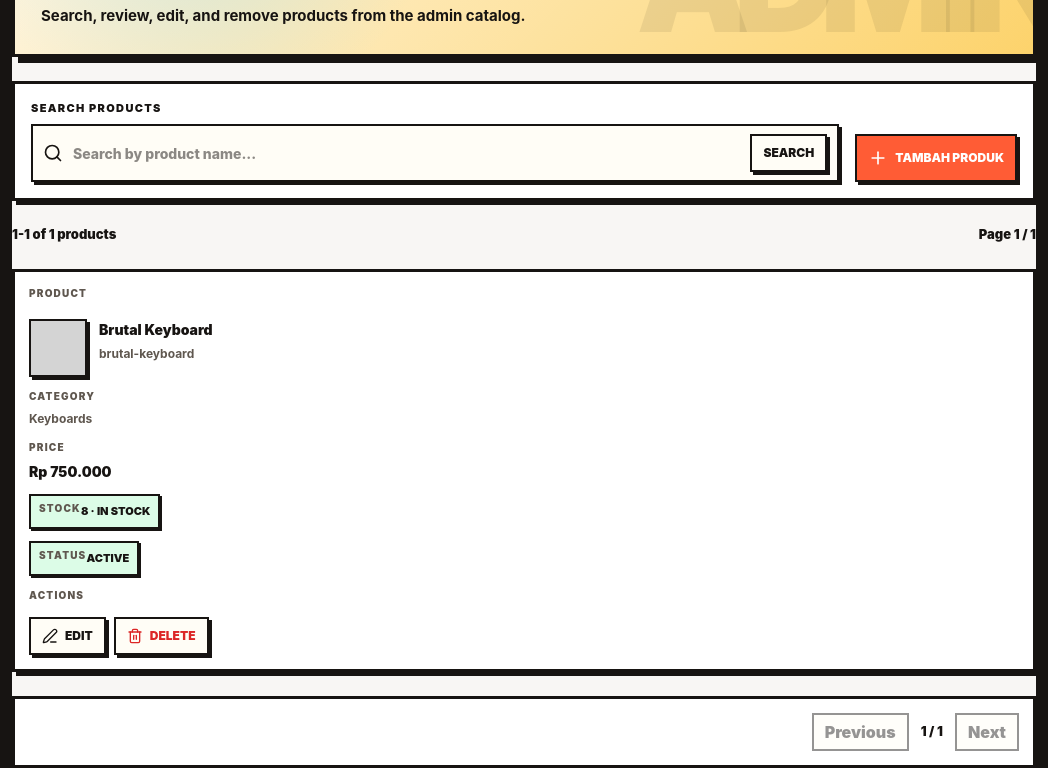
Test: admin critical flows › shows admin products and deletes a product after confirmation
(page scrolled)
Expected: the text "Brutal Keyboard" is shown, [99,319,213,340]
Click the button "Delete": (161, 636) [114,617,209,655]
(page scrolled)
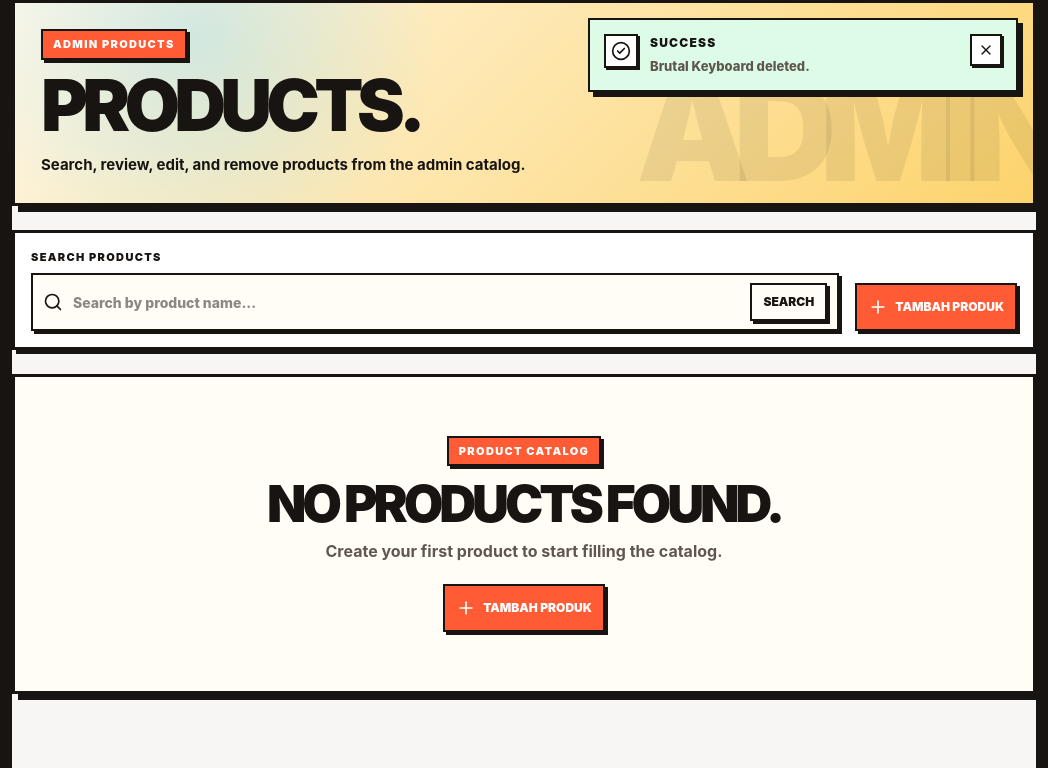
Now the text "Brutal Keyboard deleted." is shown, box [650,58,810,74]
Now the heading "No products found." is shown, box [267,480,781,528]
